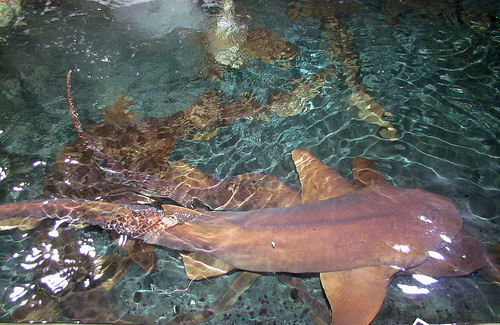shark: (8, 151, 488, 320)
